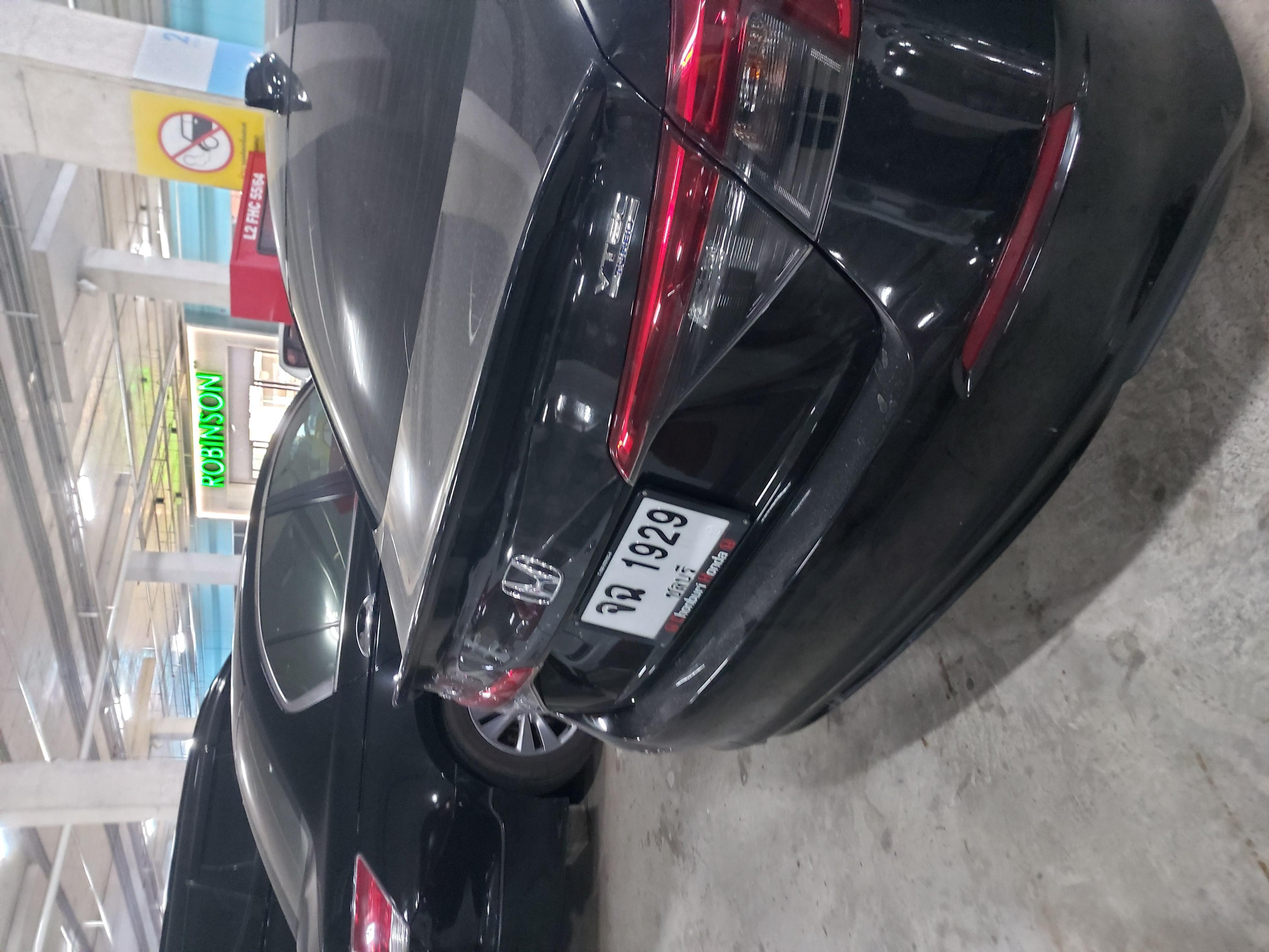license-plate: (417, 434, 610, 549)
